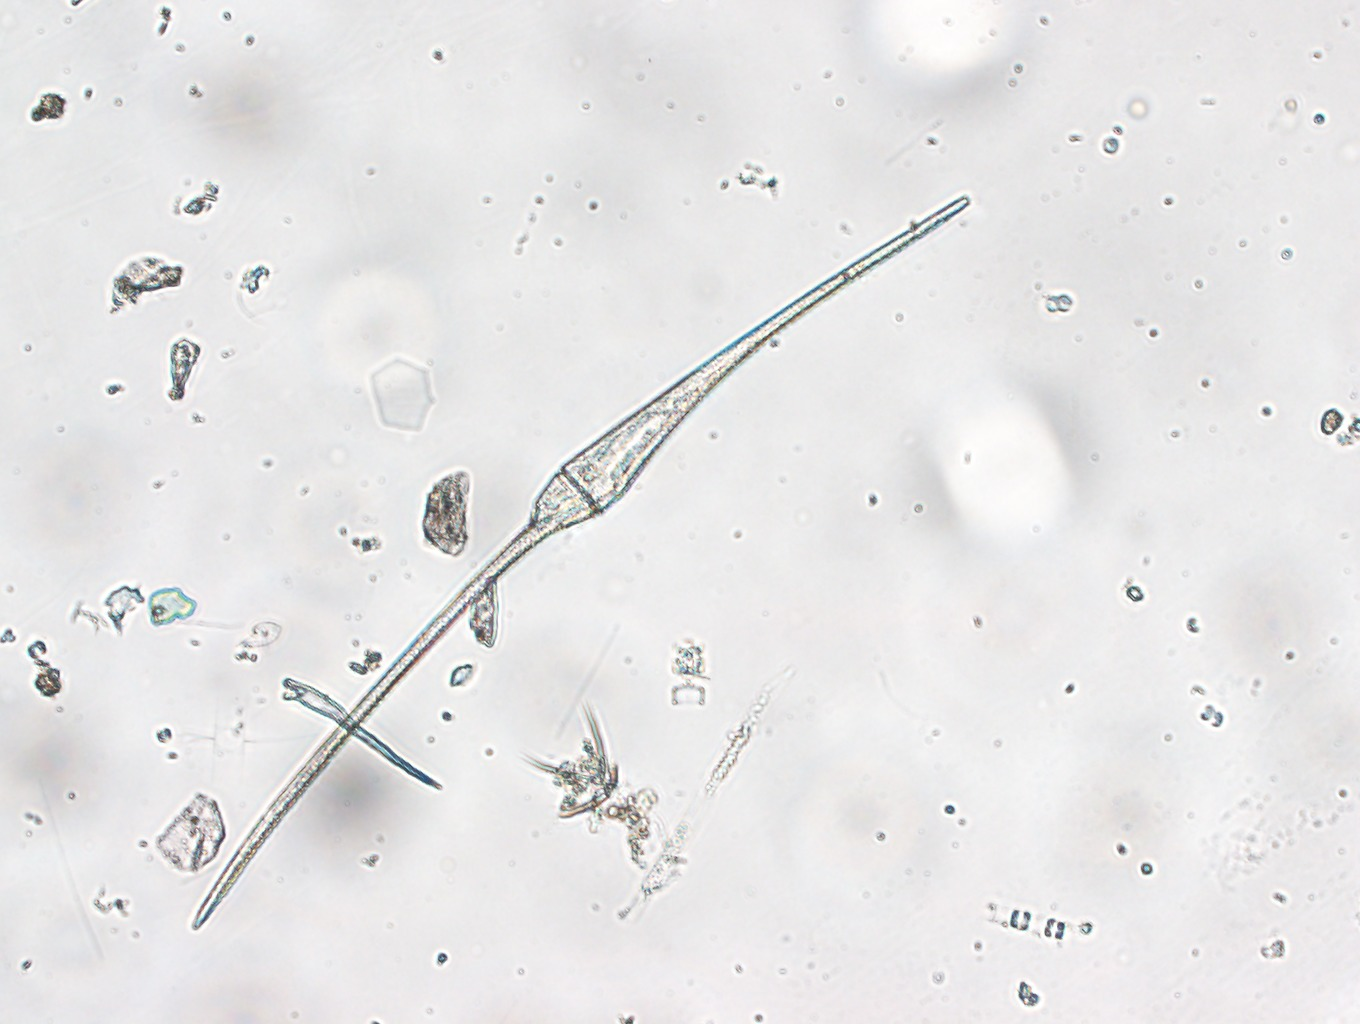ceratium fusus: (173, 183, 990, 935)
